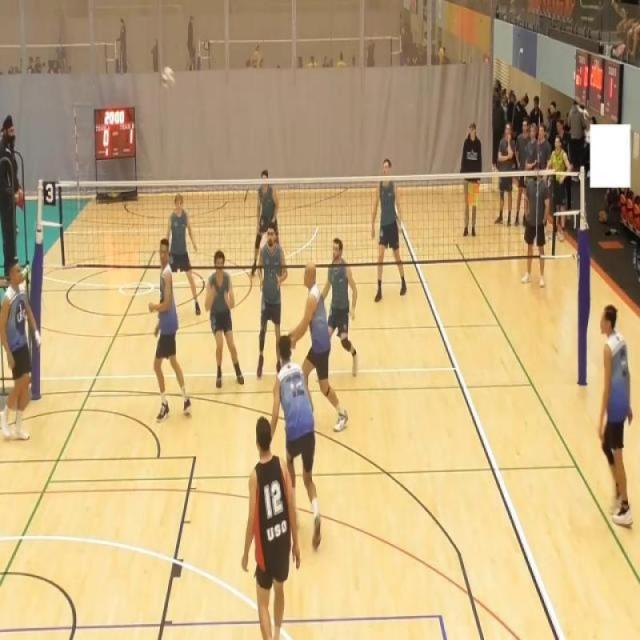volleyball: (160, 65, 176, 91)
